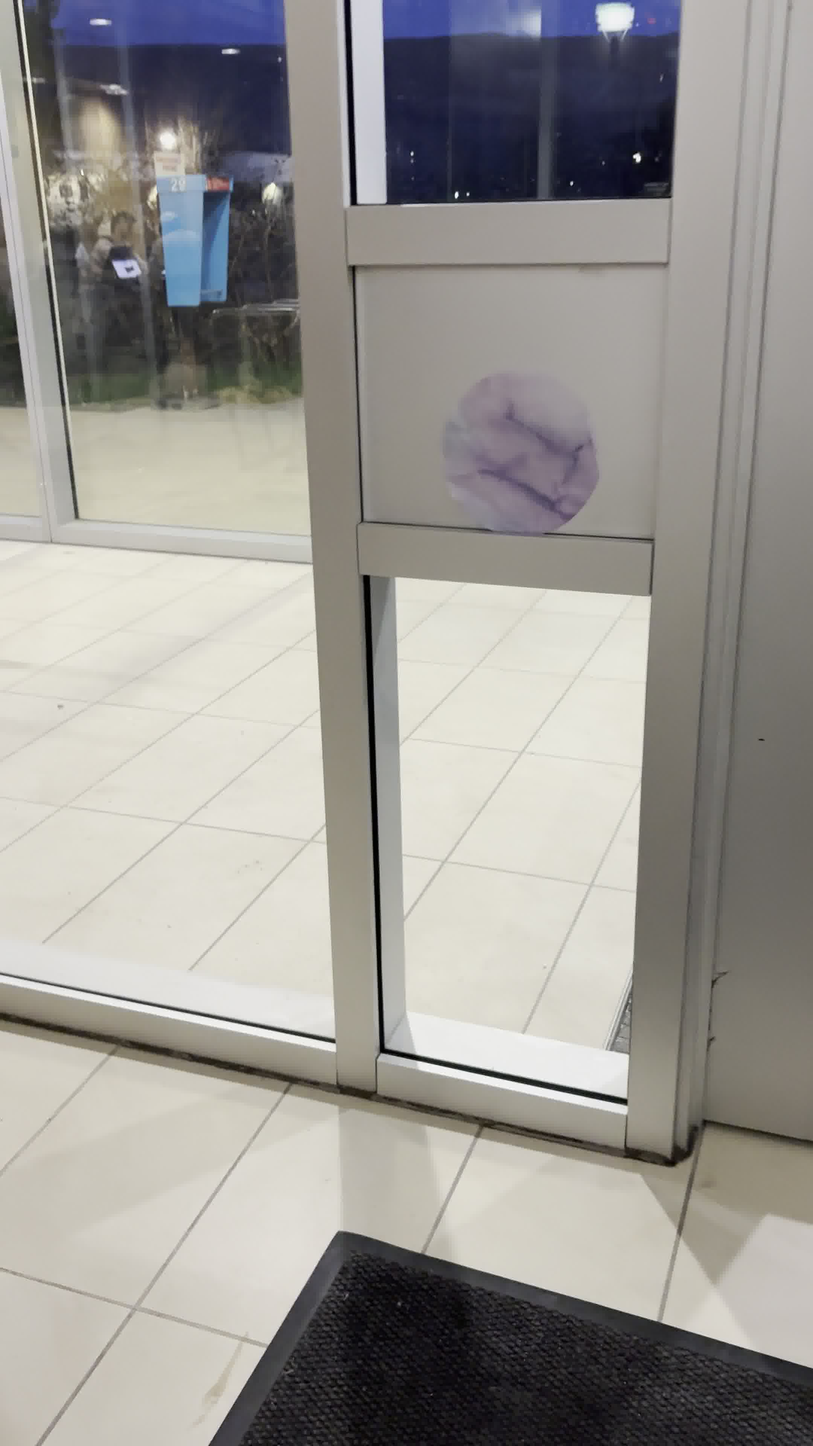Target: (438, 367, 602, 538)
